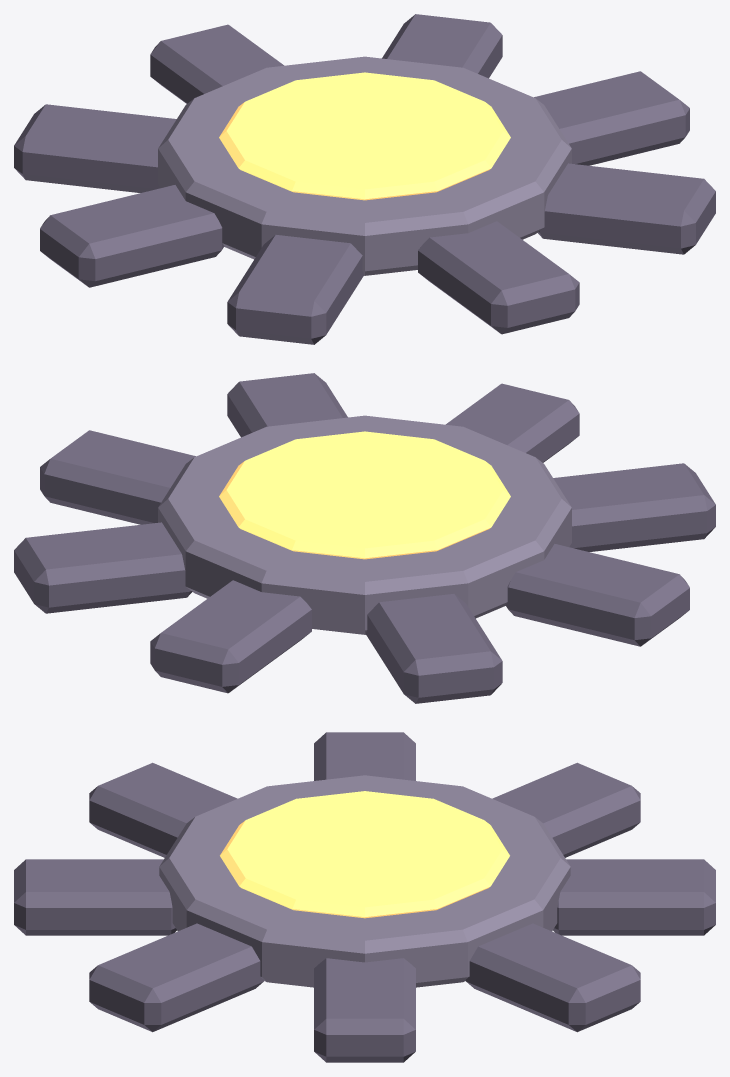
File: ember_pressure_plate.glb
The picture shows the model from 3 angles, top to bottom: view 1: azimuth 30°, elevation 25°; view 2: azimuth 150°, elevation 25°; view 3: azimuth 270°, elevation 25°; orthographic projection.
Visible parts, largest first — view 1: ember_pressure_plate_Body, ember_pressure_plate_Center.001; view 2: ember_pressure_plate_Body, ember_pressure_plate_Center.001; view 3: ember_pressure_plate_Body, ember_pressure_plate_Center.001.
Part boxes in pixels (box(x1,y1,x2,y2)): ember_pressure_plate_Body: box(14, 14, 715, 344); ember_pressure_plate_Center.001: box(158, 56, 571, 275); ember_pressure_plate_Body: box(14, 373, 715, 703); ember_pressure_plate_Center.001: box(158, 415, 571, 634); ember_pressure_plate_Body: box(14, 732, 715, 1062); ember_pressure_plate_Center.001: box(159, 775, 570, 987).
Bounding box in the file's own units: 2.9 × 0.32 × 2.9.
